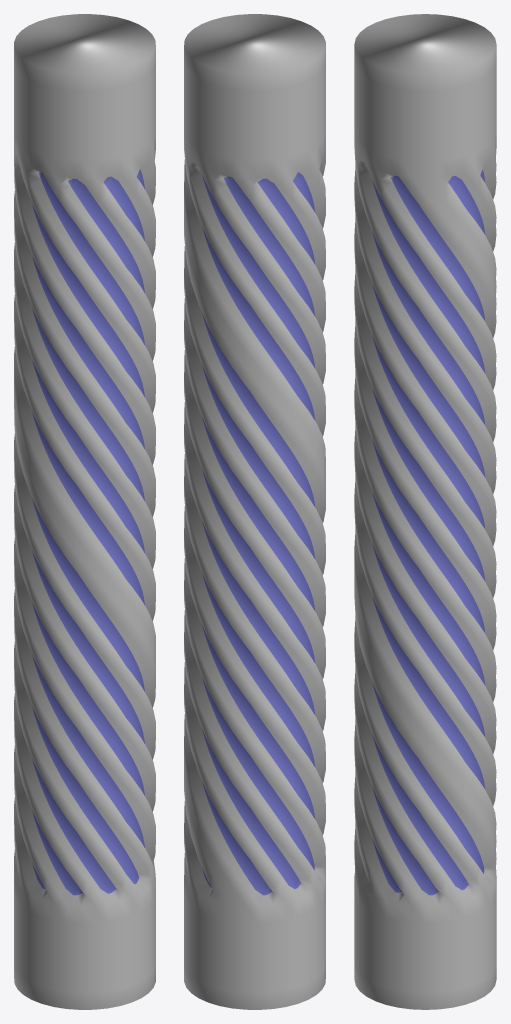
Rendered from Handle2.fbx.
3 views of the same model, side by side, from view 1: azimuth 30°, elevation 25°; view 2: azimuth 150°, elevation 25°; view 3: azimuth 270°, elevation 25° (orthographic).
Visible parts, largest first — view 1: Cylinder; view 2: Cylinder; view 3: Cylinder.
Boxes of the visible parts, left/top/right/bottom form: Cylinder: left=14, top=14, right=155, bottom=1009; Cylinder: left=184, top=14, right=325, bottom=1009; Cylinder: left=354, top=14, right=496, bottom=1009.
Size of the model in its own units: 2.75 by 20 by 2.75.
